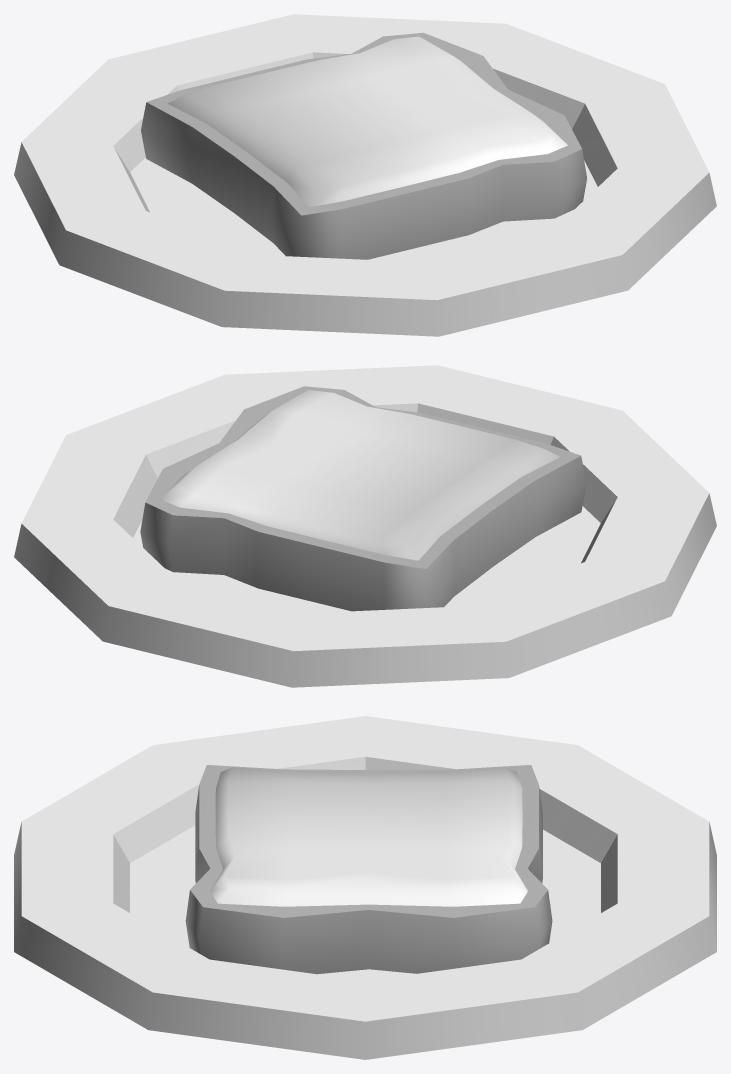
Rendered from Toast.fbx.
3 views of the same model, one above another, from view 1: azimuth 30°, elevation 25°; view 2: azimuth 150°, elevation 25°; view 3: azimuth 270°, elevation 25° (orthographic). The views are drawn at different scales.
Parts seen in each view (by area): view 1: Plate, Toast; view 2: Plate, Toast; view 3: Plate, Toast.
Part boxes in pixels (bbox=[...]): Plate: bbox=[14, 14, 716, 336]; Toast: bbox=[141, 32, 587, 259]; Plate: bbox=[14, 365, 716, 687]; Toast: bbox=[140, 386, 586, 611]; Plate: bbox=[14, 716, 716, 1059]; Toast: bbox=[185, 765, 552, 974].
Size of the model in its own units: 1.15 by 0.1391 by 1.09.
